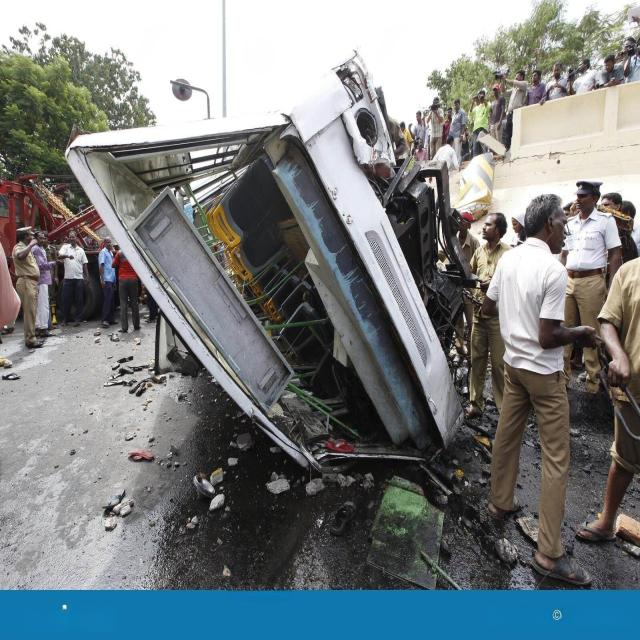accident: (66, 54, 475, 473)
